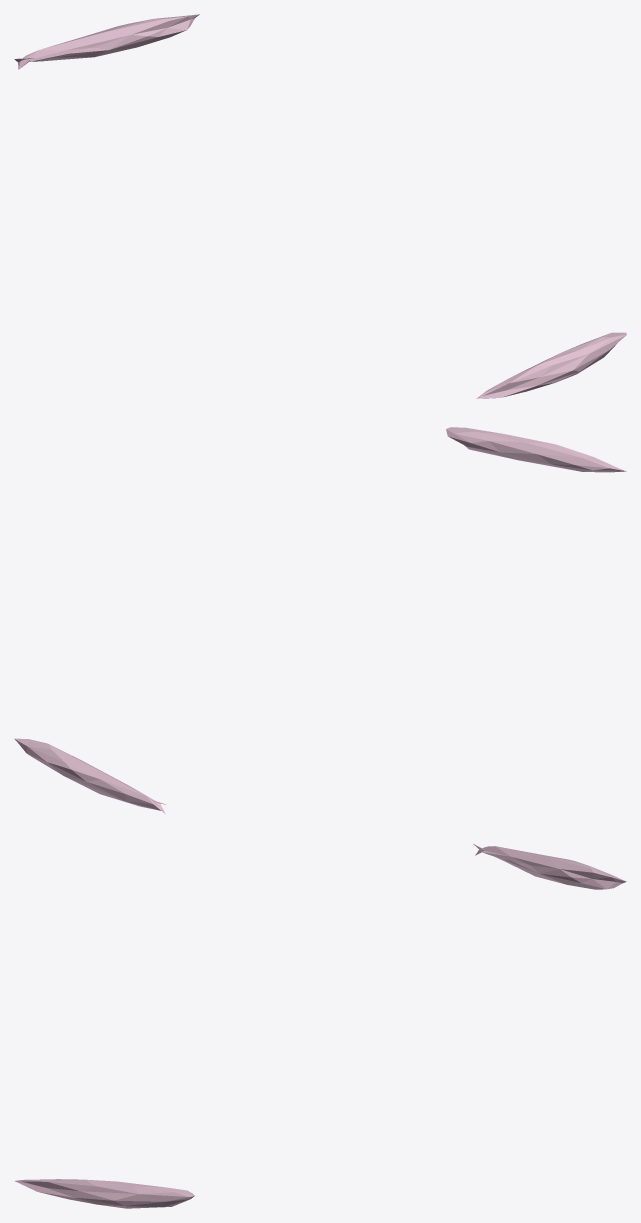
3 views of the same model, one above another, from view 1: azimuth 30°, elevation 25°; view 2: azimuth 150°, elevation 25°; view 3: azimuth 330°, elevation 25° (orthographic).
Visible parts, largest first — view 1: 143.obj; view 2: 143.obj; view 3: 143.obj.
Boxes of the visible parts, x1,y1,x2,y2 form: 143.obj: [14, 14, 626, 398]; 143.obj: [14, 427, 626, 814]; 143.obj: [15, 844, 626, 1208].
Bounding box in the file's own units: 586 × 94.19 × 2757.
